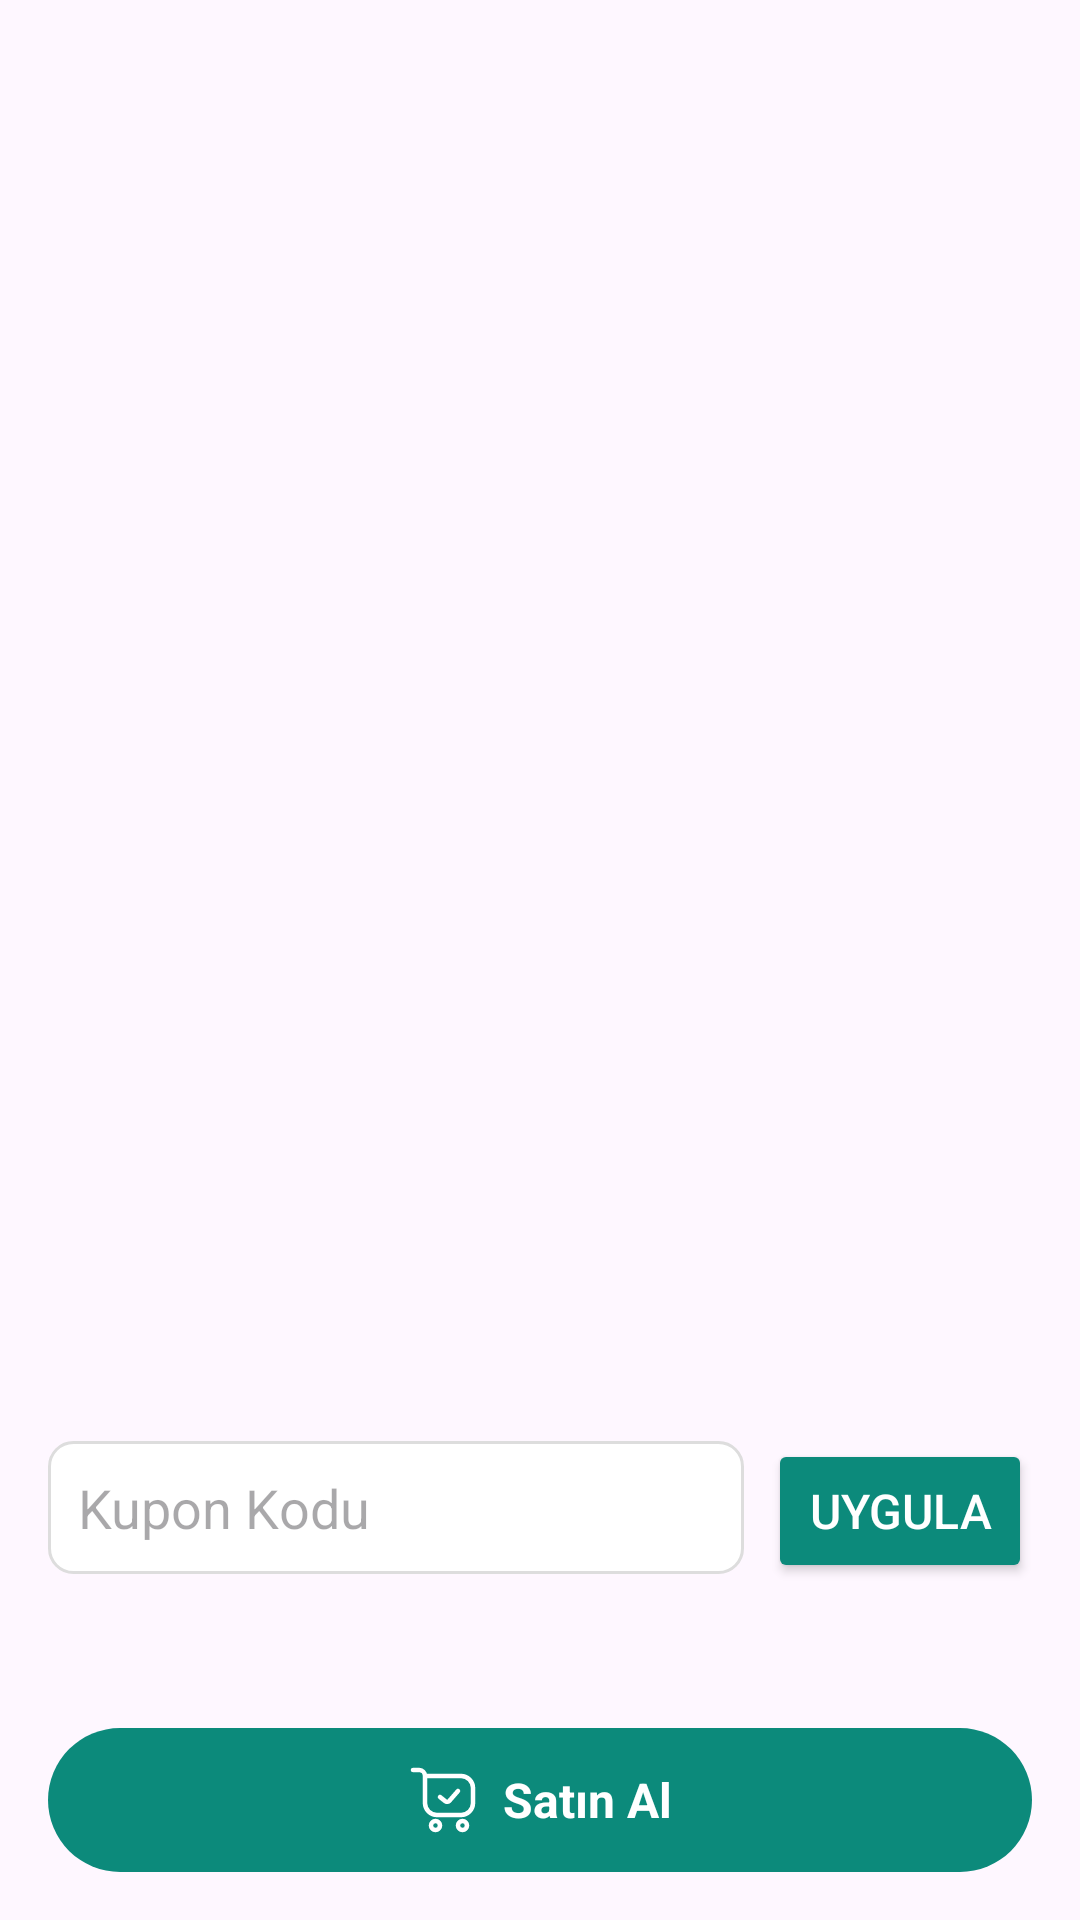

Screen size 1080px x 1920px. Icon name, then its center in pixels as point (x, y):
sepet add to cart: point (443, 1800)
